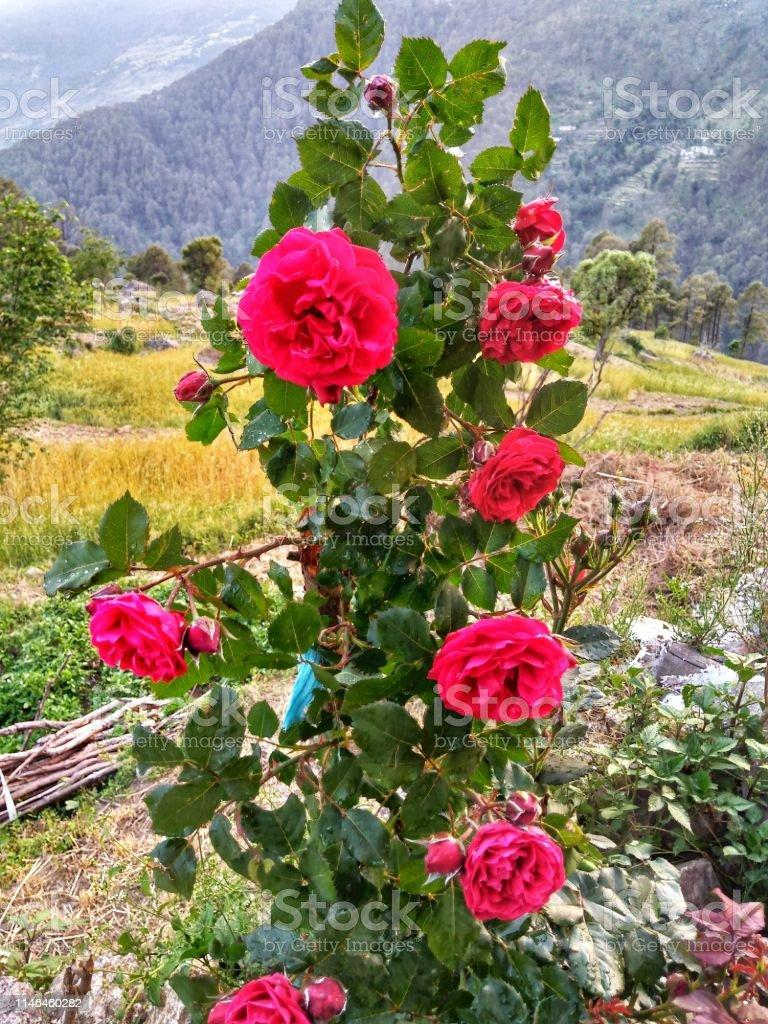Rose: (235, 200, 411, 411), (421, 782, 586, 933), (431, 594, 588, 748), (439, 416, 583, 540), (71, 570, 203, 691), (463, 254, 590, 375)
